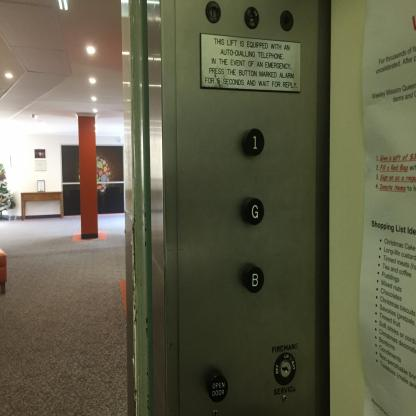1: (240, 126, 266, 157)
B: (242, 264, 265, 296)
G: (241, 196, 266, 226)
empty: (280, 10, 294, 32)
keyhole: (273, 350, 297, 388), (243, 5, 261, 30), (204, 1, 221, 25)
text_open door: (207, 373, 230, 405)
